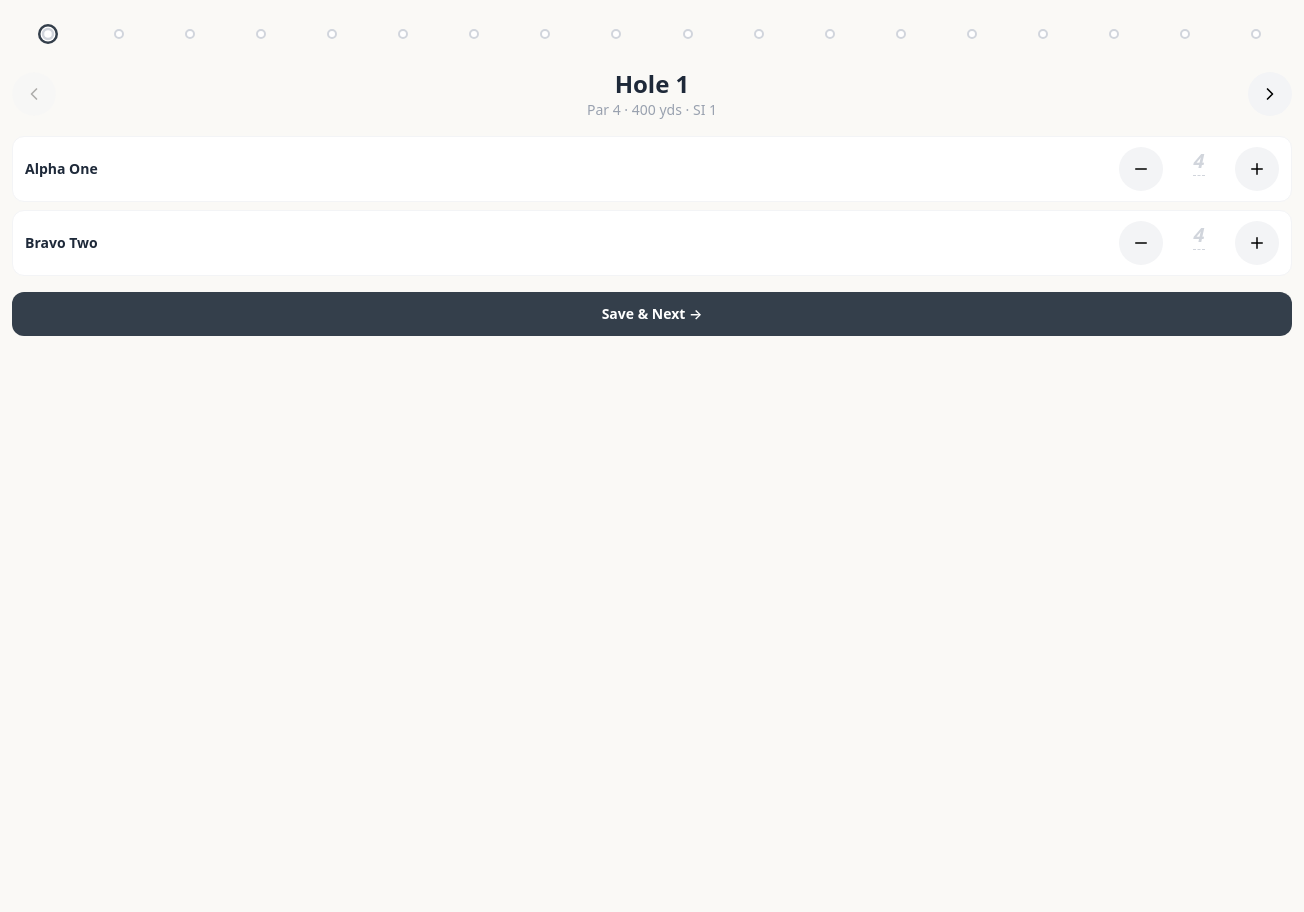
it: FoursomeHoleByHole — Save & Next › commits the displayed value (par default) for every player in the group
The image size is (1304, 912).
What coordinates should you click on to do the following:
click the button "Save & Next →"
I would click on:
 (652, 314)
Its box is [12,292,1292,336].
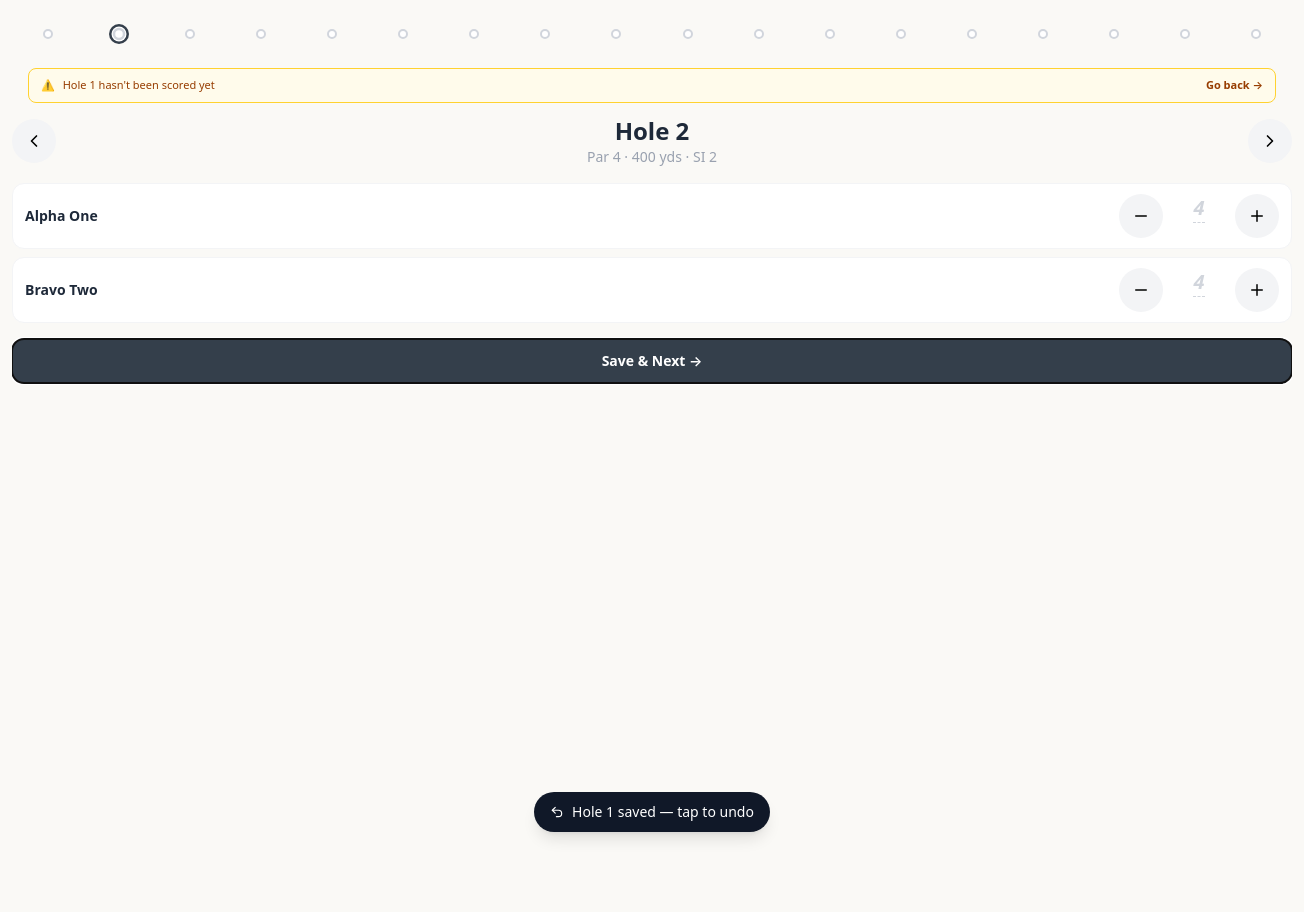
Expected: the text "Hole 2" is shown, [615,114,689,146]
